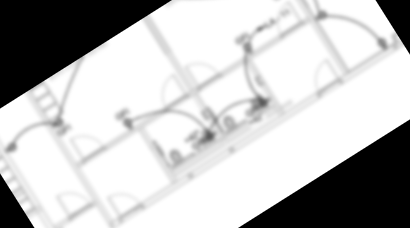door: (53, 182, 93, 222), (68, 124, 107, 164), (302, 55, 342, 94), (266, 0, 306, 38), (149, 72, 188, 110), (182, 51, 221, 89), (105, 182, 143, 220)
